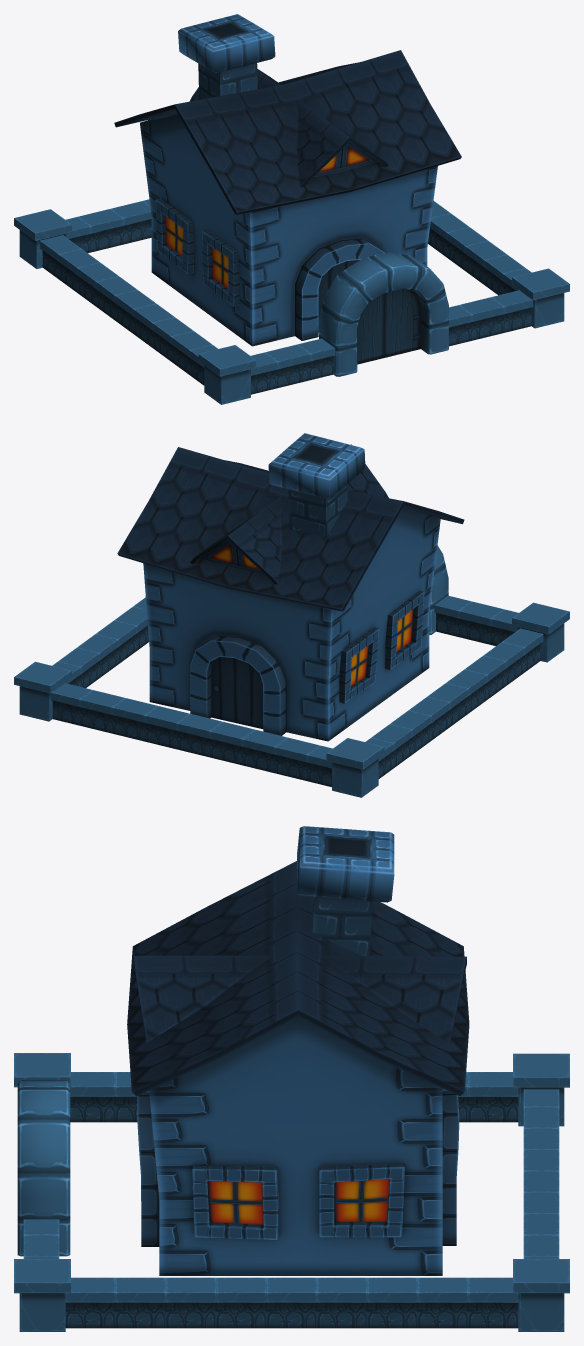
Rendered from House2.FBX.
3 views of the same model, one above another, from view 1: azimuth 30°, elevation 25°; view 2: azimuth 150°, elevation 25°; view 3: azimuth 270°, elevation 25° (orthographic). The views are drawn at different scales.
Parts seen in each view (by area): view 1: House2, House2_Gate; view 2: House2, House2_Gate; view 3: House2, House2_Gate.
Boxes of the visible parts, x1,y1,x2,y2 form: House2: (114, 14, 461, 346); House2_Gate: (14, 199, 569, 404); House2: (117, 433, 464, 741); House2_Gate: (14, 545, 569, 797); House2: (127, 826, 469, 1275); House2_Gate: (14, 1053, 569, 1331).
Size of the model in its own units: 268 by 188 by 274.
